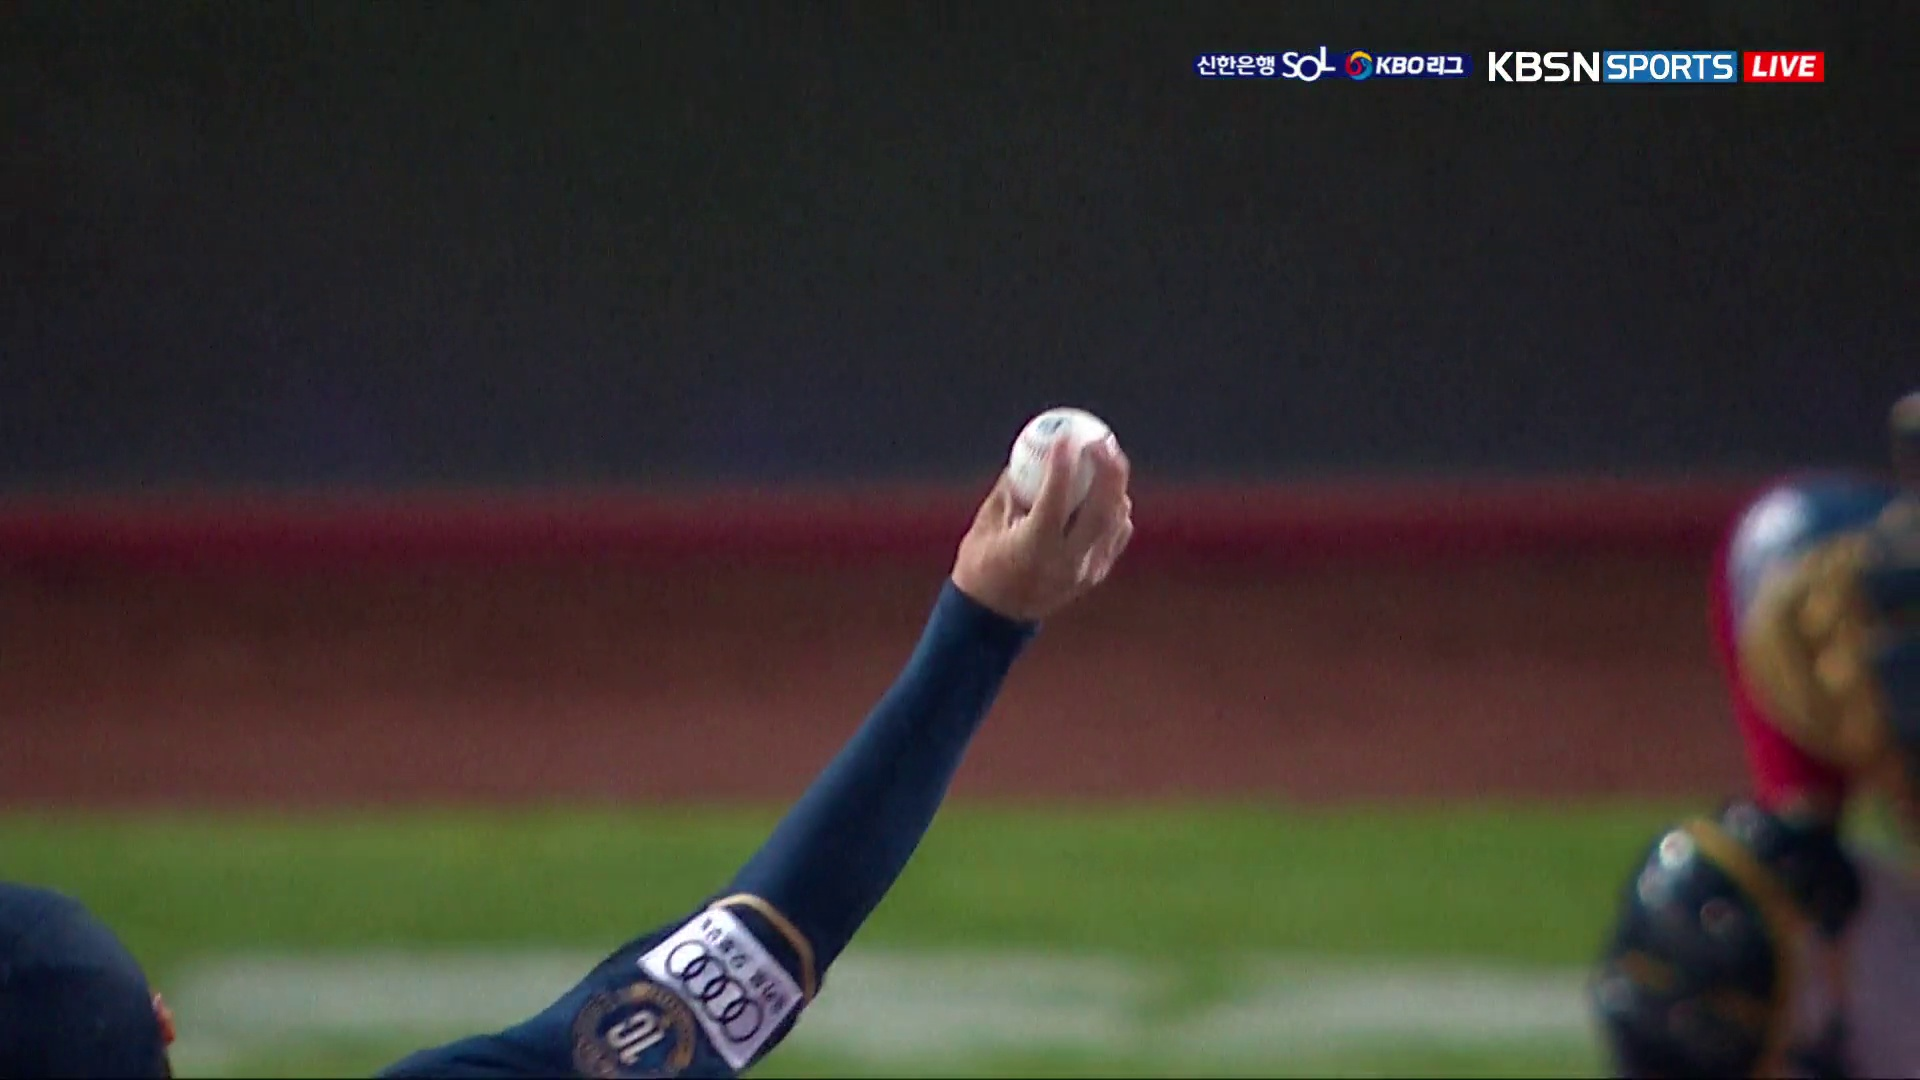zoomin_hand: (723, 397, 1145, 1007)
